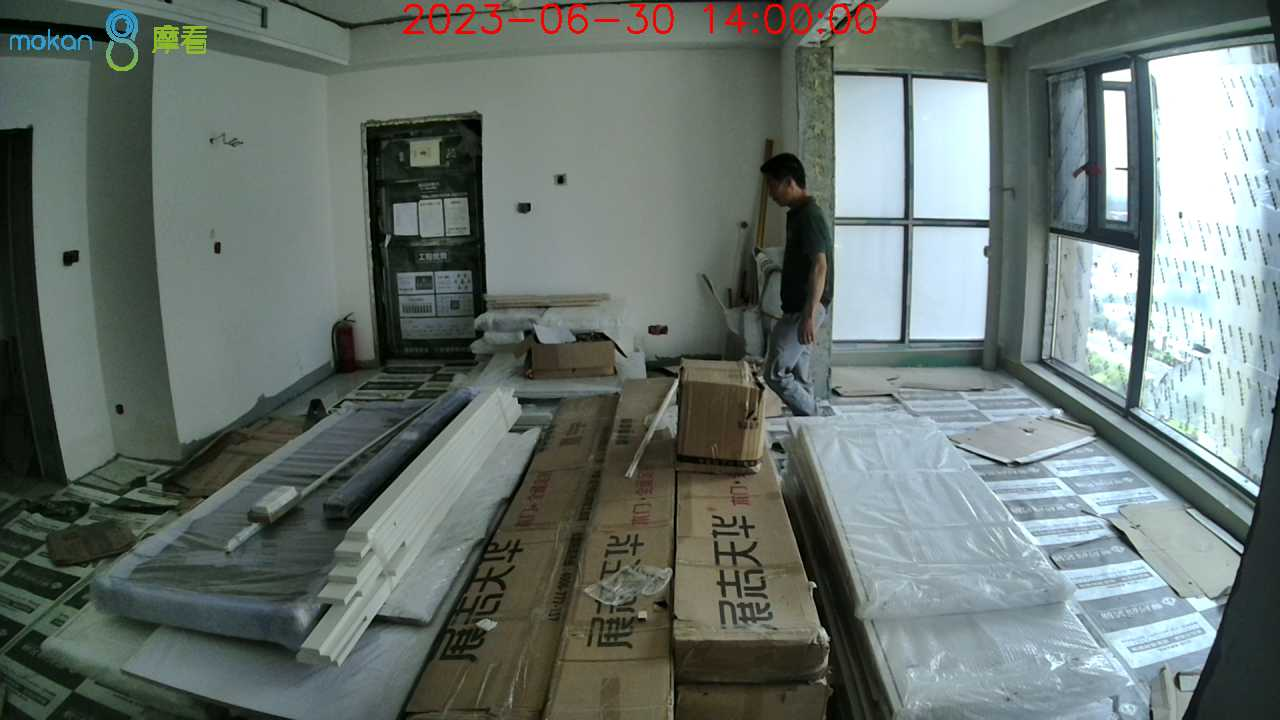people: (755, 151, 845, 421)
window: (1049, 72, 1280, 477), (838, 73, 986, 339)
